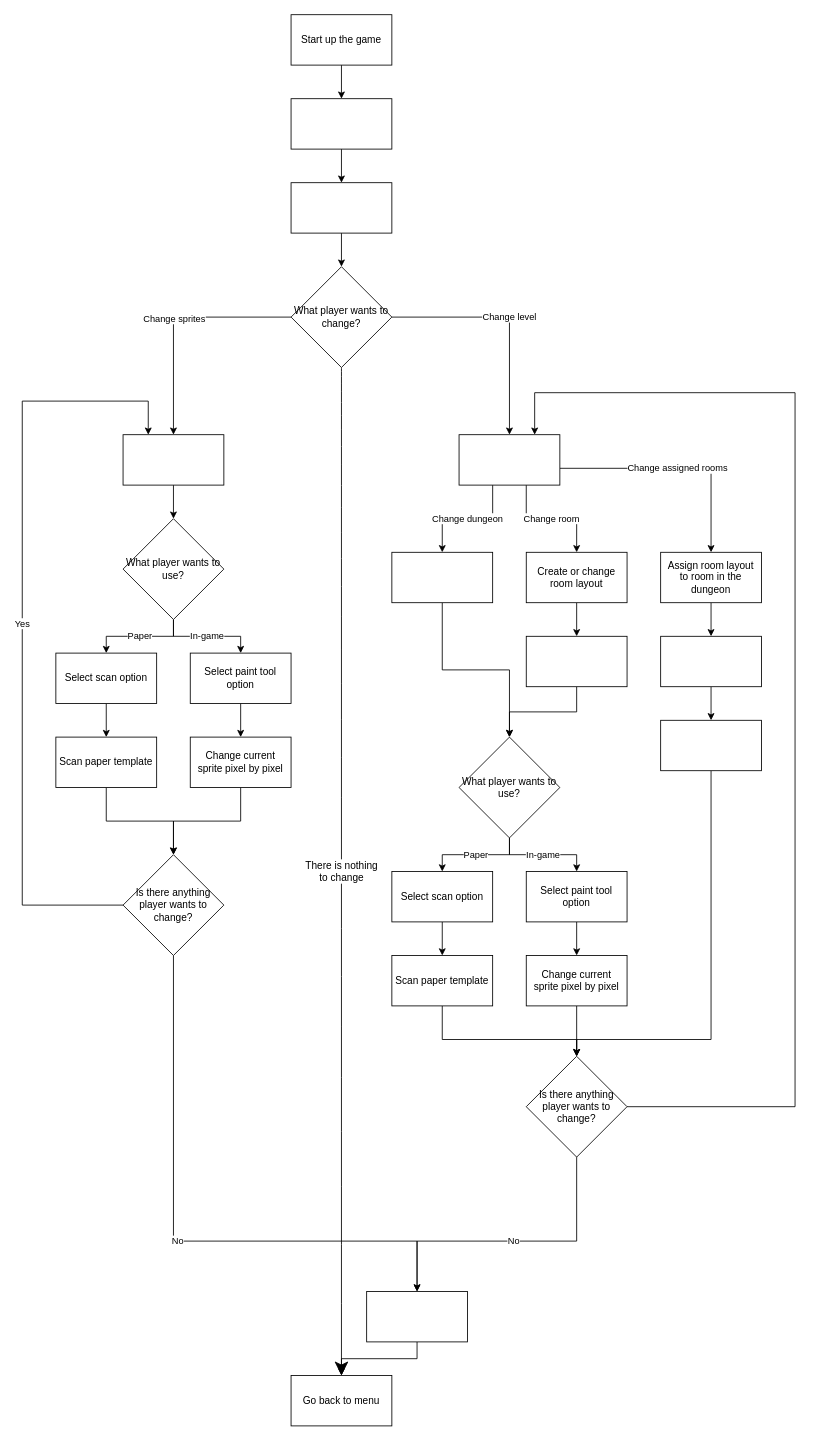
The diagram is 816 pixels wide and 1441 high, and some of its shapes have lost their labels. Here are the shapes that lost their labels. From the top down, the centre of each, then its label:
At point (341, 123): "Navigate to editor".
At point (341, 207): "Check the default sprites".
At point (173, 459): "Select sprite that player want to adjust".
At point (509, 459): "Select part of level player wants to adjust".
At point (442, 577): "Change Dungeon layuot".
At point (576, 661): "Select room layout from the list of stored rooms".
At point (710, 661): "Select room in the room layout list".
At point (710, 745): "Select room in the dungeon layout".
At point (416, 1316): "Click Save".
